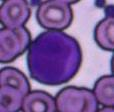M: (26, 31, 82, 86)
